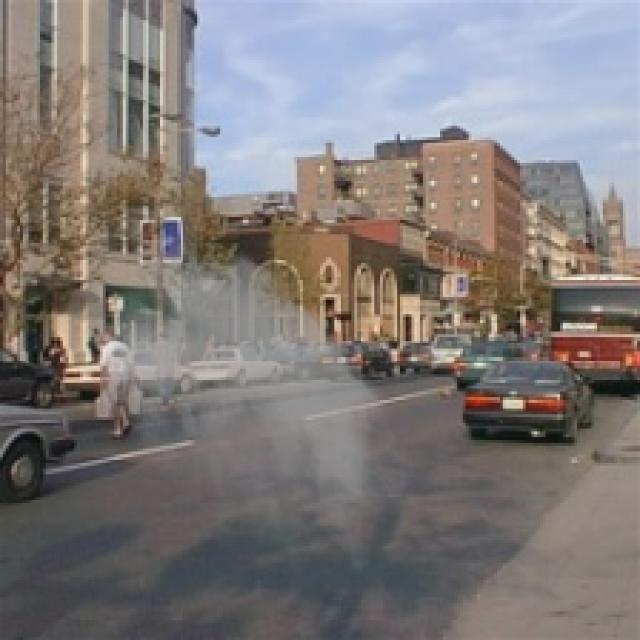Smoke: (77, 228, 420, 578)
